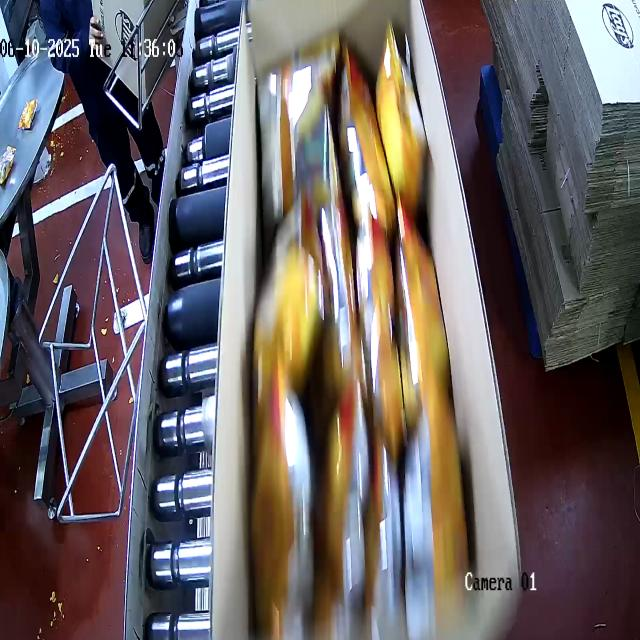FRENCH_CHEESE: (250, 40, 500, 640)
